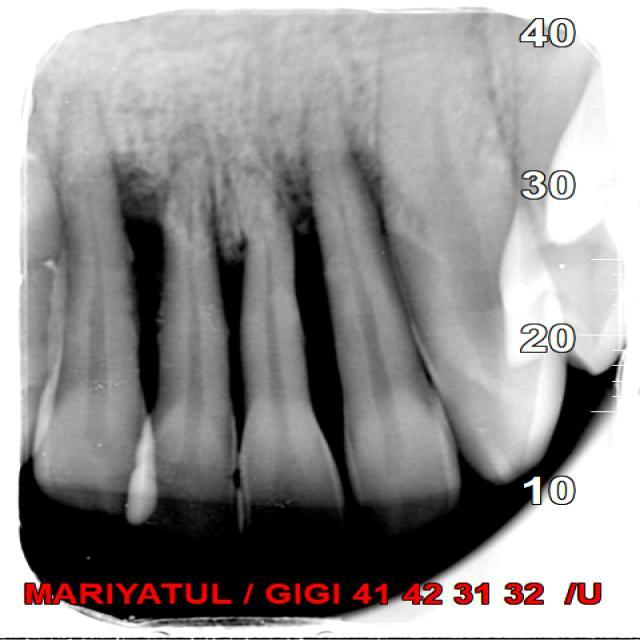individual-tooth-8tto: (372, 12, 571, 479), (312, 87, 459, 528), (31, 91, 158, 518), (124, 146, 244, 535), (243, 170, 344, 518)
